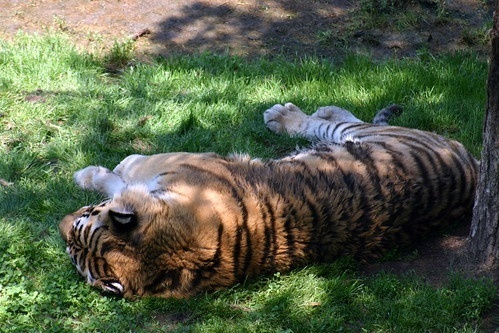tigre: (55, 99, 497, 304)
